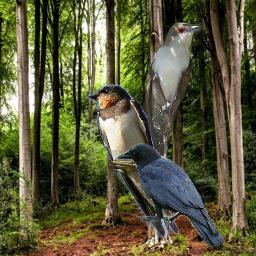Crow: (115, 143, 225, 250)
Cuckoo: (136, 20, 205, 203)
Swallow: (86, 84, 179, 238)
